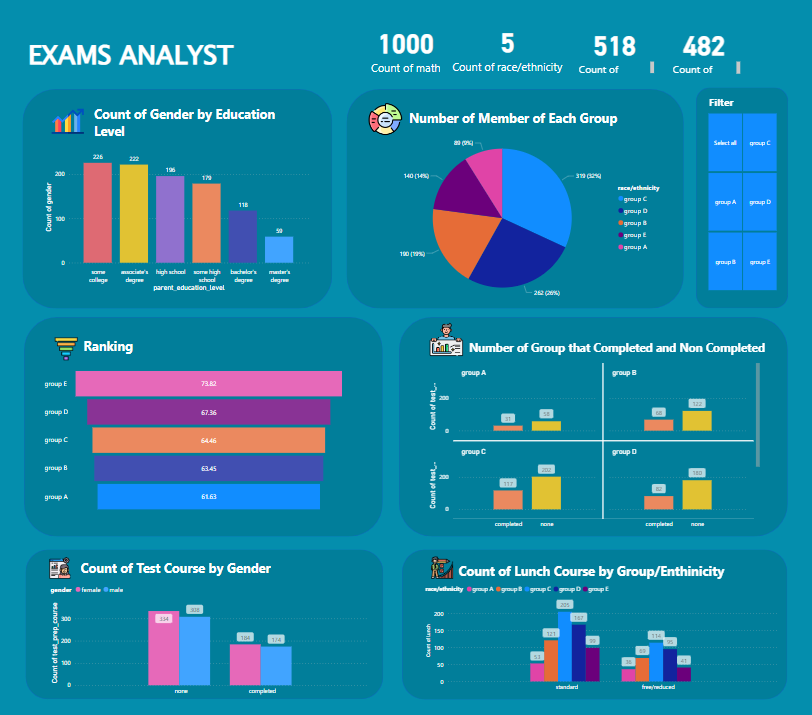

Layout of this report page (visuals, bound fields, positions):
{"tool":"powerbi","page":{"name":"Page 1","canvas":[1700,1500],"ordinal":0},"visuals":[{"type":"shape","box":[0,0,1700,1500],"z":0},{"type":"shape","box":[52.5,192.5,645,457.5],"z":1000},{"type":"clusteredColumnChart","fields":{"Category":["exams.parent_education_level"],"Y":["CountNonNull(exams.gender)"]},"box":[92.5,310,560,310],"z":2000},{"type":"image","box":[92.5,222.5,107.5,77.5],"z":3000},{"type":"textbox","box":[197.5,222.5,430,87.5],"z":4000},{"type":"shape","box":[727.5,192.5,702.5,457.5],"z":5000},{"type":"pieChart","fields":{"Category":["exams.race/ethnicity"],"Y":["CountNonNull(exams.race/ethnicity)"]},"box":[805,242.5,595,437.5],"z":6000},{"type":"textbox","box":[852.5,230,470,67.5],"z":7000},{"type":"image","box":[768.3,208.3,80,93.3],"z":8000},{"type":"shape","box":[57.5,670,747.5,457.5],"z":9000},{"type":"funnel","fields":{"Category":["exams.race/ethnicity"],"Y":["Avg(exams.math)"]},"box":[92.5,750,635,350],"z":10000},{"type":"textbox","box":[175,705,332.5,67.5],"z":11000},{"type":"image","box":[92.5,705,100,57.5],"z":12000},{"type":"card","fields":{"Values":["CountNonNull(exams.math)"]},"box":[712.5,25,277.5,167.5],"z":13000},{"type":"card","fields":{"Values":["Count(exams.race/ethnicity)"]},"box":[942,42,244,130],"z":14000},{"type":"shape","box":[1456,190,192,460],"z":15000},{"type":"slicer","fields":{"Values":["exams.race/ethnicity"]},"box":[1456,238,192,382],"z":16000},{"type":"shape","box":[837.5,670,810,457.5],"z":17000},{"type":"lineClusteredColumnComboChart","fields":{"Category":["exams.test_prep_course"],"Rows":["exams.race/ethnicity"],"Y":["CountNonNull(exams.test_prep_course)"]},"box":[892.5,760,700,360],"z":18000},{"type":"textbox","box":[979.5,709.1,684.1,88.6],"z":19000},{"type":"image","box":[894,676,84,80],"z":20000},{"type":"shape","box":[60,1153.3,745,311.7],"z":21000},{"type":"lineClusteredColumnComboChart","fields":{"Category":["exams.test_prep_course"],"Y":["CountNonNull(exams.test_prep_course)"],"Series":["exams.gender"]},"box":[106,1216,672,250],"z":22000},{"type":"shape","box":[845,1152.5,802.5,312.5],"z":23000},{"type":"lineClusteredColumnComboChart","fields":{"Category":["exams.lunch"],"Y":["CountNonNull(exams.lunch)"],"Series":["exams.race/ethnicity"]},"box":[887.5,1215,742.5,242.5],"z":24000},{"type":"textbox","box":[168,1168,414,66],"z":25000},{"type":"image","box":[102.5,1162.5,55,57.5],"z":26000},{"type":"textbox","box":[956,1174,580,54],"z":27000},{"type":"image","box":[898,1164,60,56],"z":28000},{"type":"card","fields":{"Values":["CountNonNull(exams.gender)"]},"box":[1206,60,158,76],"z":29000},{"type":"textbox","box":[1205,130,188.3,48.3],"z":30000},{"type":"card","fields":{"Values":["CountNonNull(exams.gender)"]},"box":[1394,60,158,76],"z":31000},{"type":"textbox","box":[1401.7,130,211.7,48.3],"z":32000},{"type":"textbox","box":[1478,200,150,48],"z":33000},{"type":"textbox","box":[60,77.5,637.5,95],"z":34000}]}

Visuals, with their boxes in screenshot pixels (x1, y1, x2, y2), scaled from the page's 1700x1500 canvas onto the 812x715 screenshot:
shape: [x1=0, y1=0, x2=811, y2=714]
shape: [x1=25, y1=92, x2=333, y2=310]
clusteredColumnChart - exams.parent_education_level x CountNonNull(exams.gender): [x1=44, y1=148, x2=312, y2=296]
image: [x1=44, y1=106, x2=96, y2=143]
textbox: [x1=94, y1=106, x2=300, y2=148]
shape: [x1=347, y1=92, x2=683, y2=310]
pieChart - exams.race/ethnicity x CountNonNull(exams.race/ethnicity): [x1=385, y1=116, x2=669, y2=324]
textbox: [x1=407, y1=110, x2=632, y2=142]
image: [x1=367, y1=99, x2=405, y2=144]
shape: [x1=27, y1=319, x2=385, y2=537]
funnel - exams.race/ethnicity x Avg(exams.math): [x1=44, y1=358, x2=347, y2=524]
textbox: [x1=84, y1=336, x2=242, y2=368]
image: [x1=44, y1=336, x2=92, y2=363]
card - CountNonNull(exams.math): [x1=340, y1=12, x2=473, y2=92]
card - Count(exams.race/ethnicity): [x1=450, y1=20, x2=566, y2=82]
shape: [x1=695, y1=91, x2=787, y2=310]
slicer - exams.race/ethnicity: [x1=695, y1=113, x2=787, y2=296]
shape: [x1=400, y1=319, x2=787, y2=537]
lineClusteredColumnComboChart - exams.test_prep_course x exams.race/ethnicity: [x1=426, y1=362, x2=761, y2=534]
textbox: [x1=468, y1=338, x2=795, y2=380]
image: [x1=427, y1=322, x2=467, y2=360]
shape: [x1=29, y1=550, x2=385, y2=698]
lineClusteredColumnComboChart - exams.test_prep_course x CountNonNull(exams.test_prep_course): [x1=51, y1=580, x2=372, y2=699]
shape: [x1=404, y1=549, x2=787, y2=698]
lineClusteredColumnComboChart - exams.lunch x CountNonNull(exams.lunch): [x1=424, y1=579, x2=779, y2=695]
textbox: [x1=80, y1=557, x2=278, y2=588]
image: [x1=49, y1=554, x2=75, y2=582]
textbox: [x1=457, y1=560, x2=734, y2=585]
image: [x1=429, y1=555, x2=458, y2=582]
card - CountNonNull(exams.gender): [x1=576, y1=29, x2=652, y2=65]
textbox: [x1=576, y1=62, x2=666, y2=85]
card - CountNonNull(exams.gender): [x1=666, y1=29, x2=741, y2=65]
textbox: [x1=670, y1=62, x2=771, y2=85]
textbox: [x1=706, y1=95, x2=778, y2=118]
textbox: [x1=29, y1=37, x2=333, y2=82]
